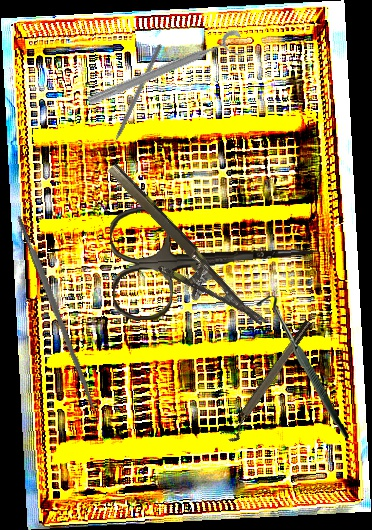Chopper: (101, 40, 163, 157)
Fixation Ring: (85, 27, 248, 119), (219, 318, 320, 445)
Hook Surgical: (256, 294, 349, 440)
Iris Scissors: (108, 197, 322, 322)
Needle Holder: (85, 161, 267, 351)
Scalpel Handle: (15, 214, 98, 409)
